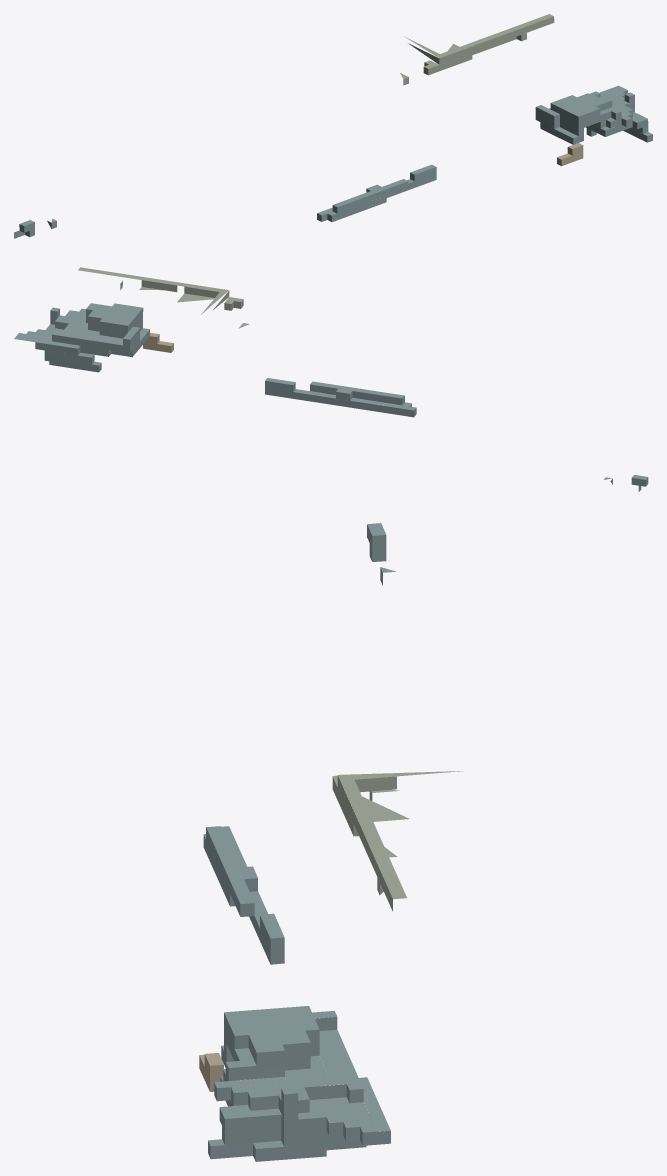
3 renders of one model, top to bottom at view 1: azimuth 30°, elevation 25°; view 2: azimuth 150°, elevation 25°; view 3: azimuth 270°, elevation 25°, orthographic. The views are drawn at different scales.
Visible parts, largest first — view 1: measured-industrial; view 2: measured-industrial; view 3: measured-industrial.
Part boxes in pixels (left/top/right/bottom): measured-industrial: left=14, top=14, right=652, bottom=238; measured-industrial: left=14, top=267, right=648, bottom=491; measured-industrial: left=199, top=523, right=463, bottom=1161.
Bounding box in the file's own units: 97.87 × 16.2 × 18.64.
